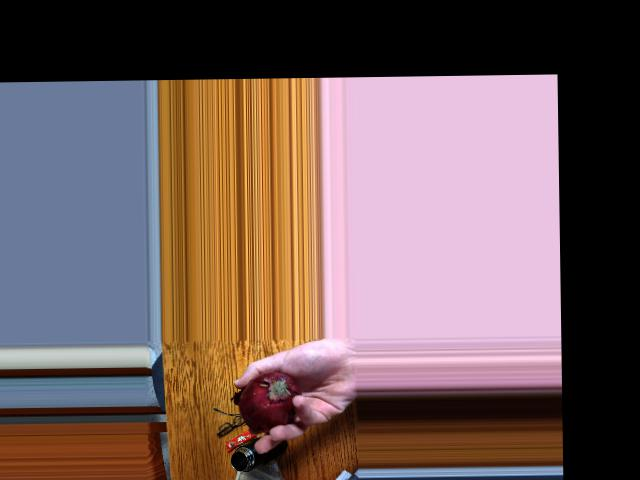onion: (243, 371, 301, 427)
